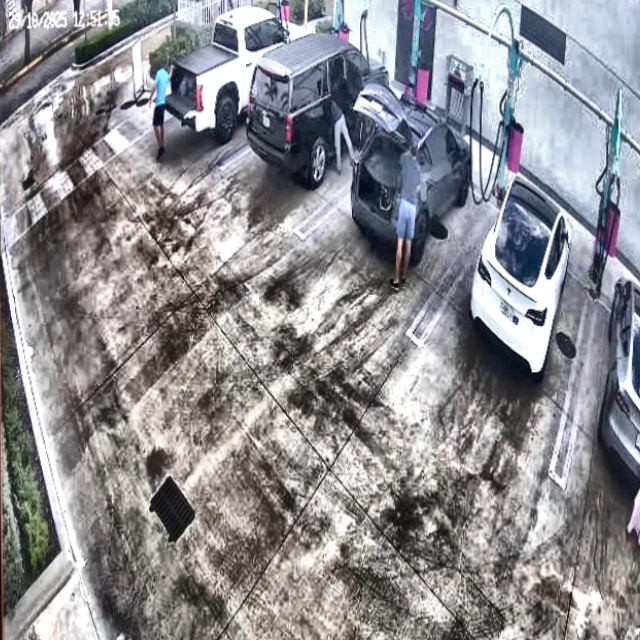Car: (350, 75, 473, 258), (248, 33, 388, 189), (470, 174, 574, 377)
